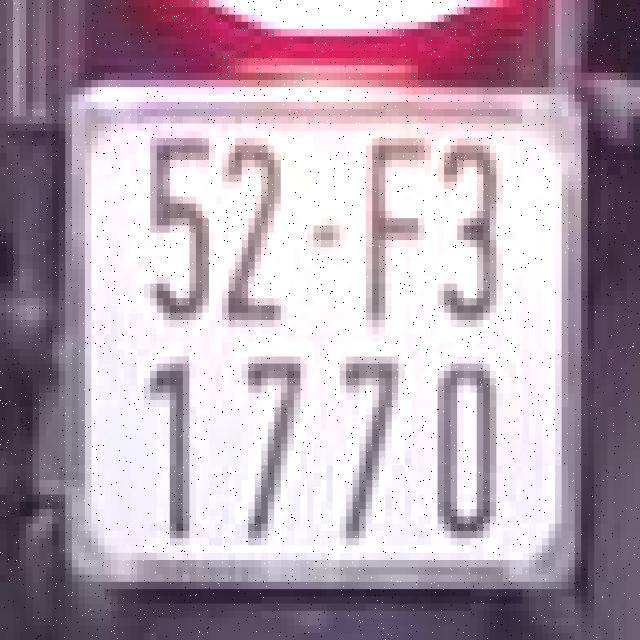0: (424, 342, 516, 553)
1: (144, 338, 209, 549)
2: (212, 134, 297, 331)
3: (434, 138, 519, 335)
5: (137, 123, 222, 334)
7: (238, 349, 317, 567), (329, 338, 402, 542)
F: (350, 116, 448, 334)
